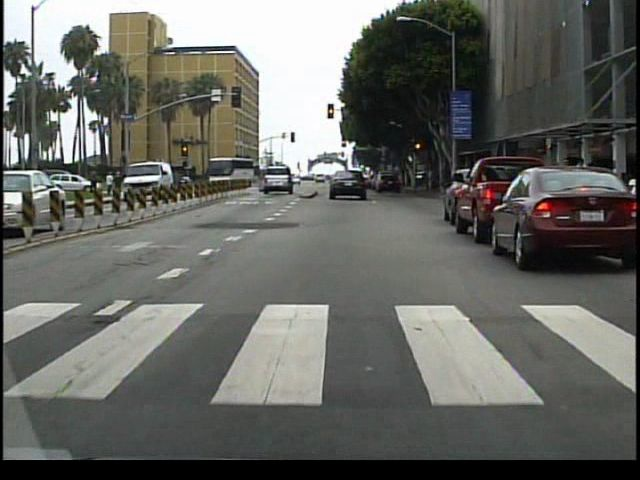person: (109, 171, 126, 206), (88, 170, 102, 199), (106, 171, 118, 197)
